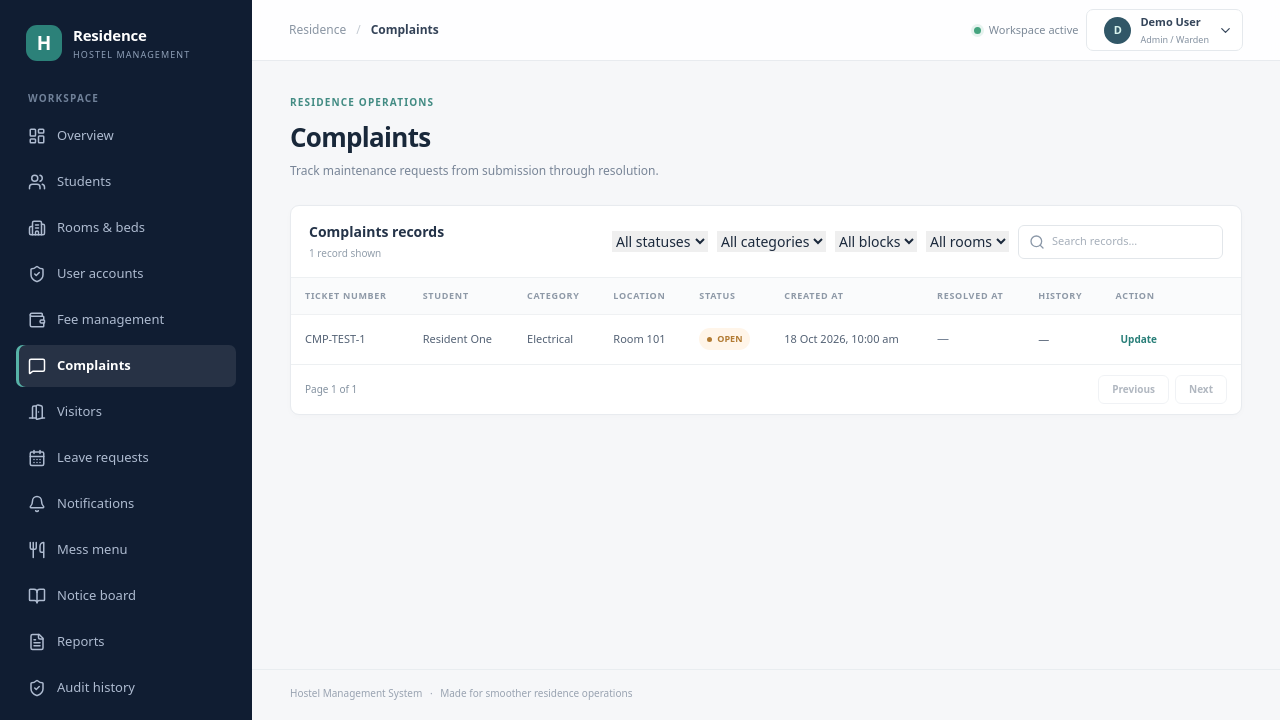
Test: HMS authentication and route access › opens the complaint update dialog and requires remarks before resolution
Click the button "Update" at (1139, 339), box [1118, 328, 1160, 350]
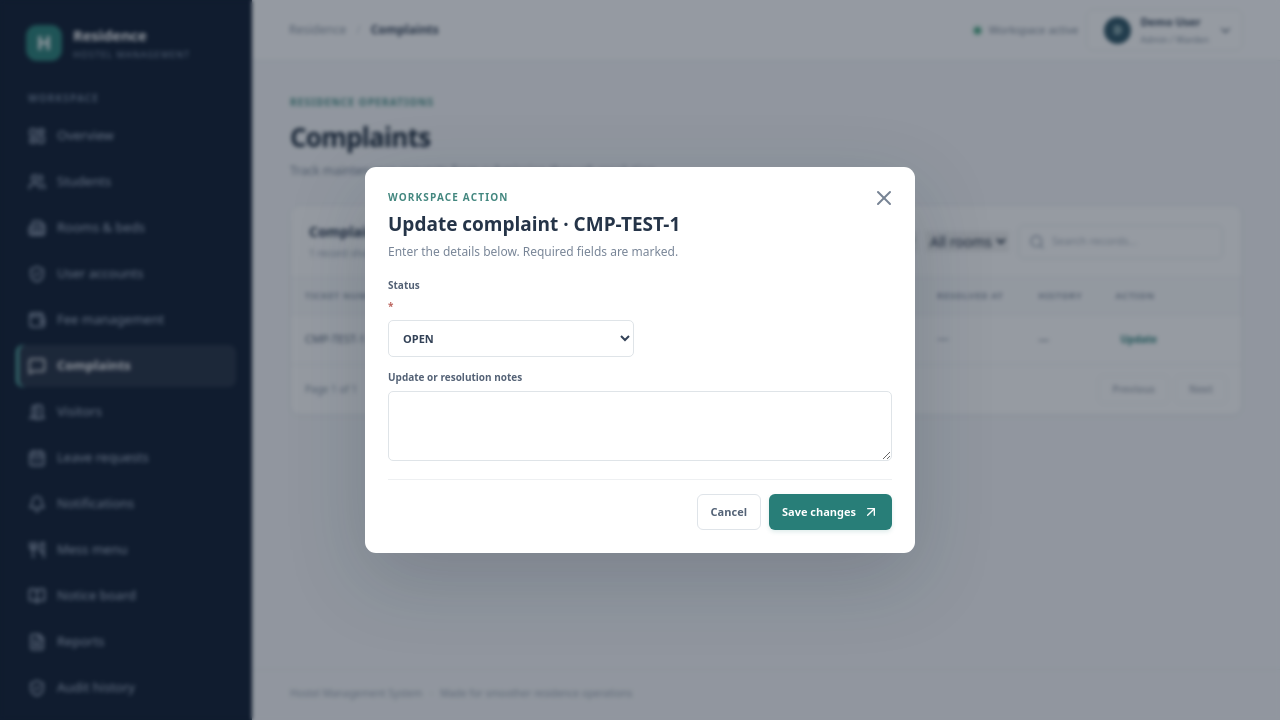
Result: the heading "Update complaint · CMP-TEST-1" is shown at [388, 211, 680, 237]
Select "RESOLVED" in the dropdown labelled "Status *" at (511, 339), box [388, 320, 634, 357]
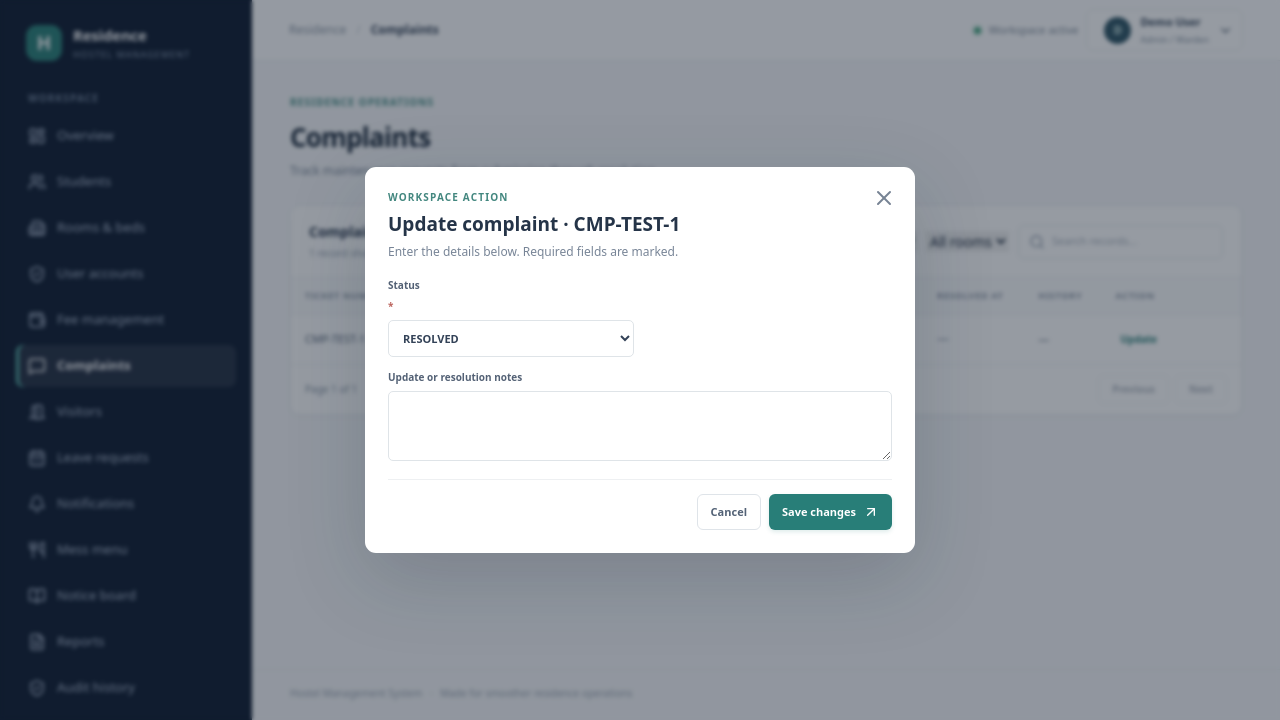
Click the button "Save changes" at (830, 512), box [769, 494, 892, 530]
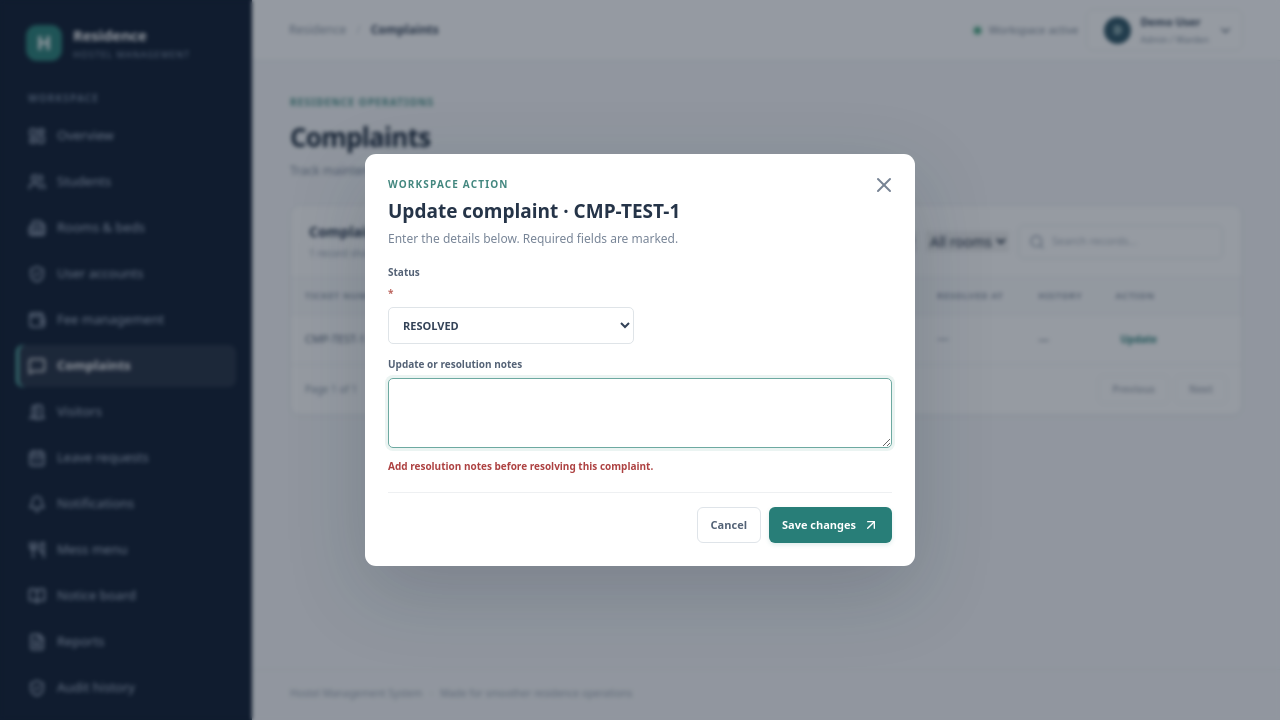
Result: the text "Add resolution notes before resolving this complaint." is shown at [388, 459, 653, 473]
